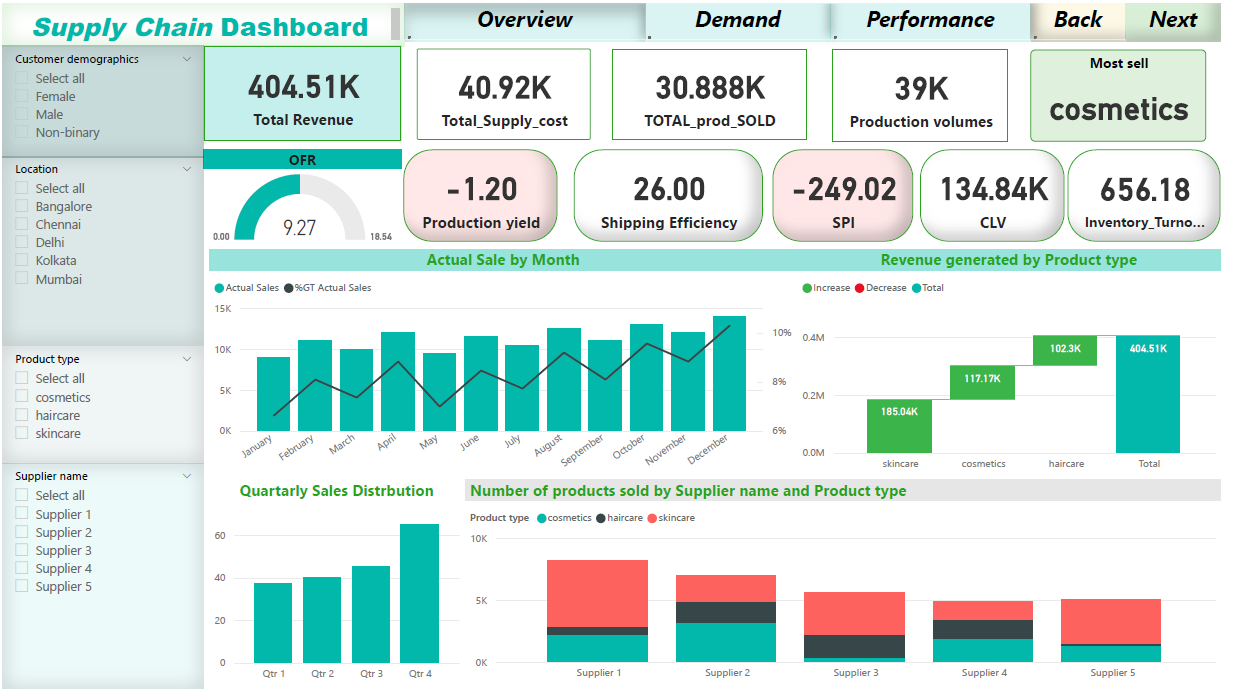

What the dashboard file says about the page in this screenshot:
{"tool":"powerbi","page":{"name":"Overview","canvas":[1280,720],"ordinal":0},"visuals":[{"type":"textbox","box":[0,0,421.7,45],"z":0},{"type":"card","fields":{"Values":["processed_data.Total Revenue"]},"box":[211.4,44.3,207.1,100],"z":1000},{"type":"card","fields":{"Values":["Measure.SPI"]},"box":[808.6,152.9,148.6,97.1],"z":2000},{"type":"card","fields":{"Values":["Sum(processed_data.Production volumes)"]},"box":[871.7,46.7,185,98.3],"z":3000},{"type":"card","fields":{"Values":["Measure.TOTAL SOLD"]},"box":[640,46.7,205,96.7],"z":4000},{"type":"card","title":"Most sell","fields":{"Values":["Min(processed_data.Product type)"]},"box":[1080,48.3,185,96.7],"z":5000},{"type":"gauge","fields":{"Y":["Measure.OFR"]},"box":[211.4,152.9,207.1,105.7],"z":6000},{"type":"card","fields":{"Values":["Measure.Inventory_Turnover"]},"box":[1118.6,152.9,161.4,97.1],"z":7000},{"type":"clusteredColumnChart","title":"Quartarly Sales Distrbution","fields":{"Category":["Demand.Date.Variation.Date Hierarchy.Quarter"],"Y":["Sum(Demand.Customer Demand Var)"]},"box":[216.7,500,268.3,220],"z":8000},{"type":"lineStackedColumnComboChart","title":"Actual Sale by Month","fields":{"Y":["Sum(Demand.Actual Sales)"],"Category":["Demand.Date.Variation.Date Hierarchy.Month","Demand.Date.Variation.Date Hierarchy.Day"],"Y2":["Divide(Sum(Demand.Actual Sales), ScopedEval(Sum(Demand.Actual Sales), []))"]},"box":[216.7,258.3,618.3,241.7],"z":9000},{"type":"waterfallChart","fields":{"Category":["processed_data.Product type"],"Y":["Sum(processed_data.Revenue generated)"]},"box":[835,258.3,445,241.7],"z":10000},{"type":"card","fields":{"Values":["Measure.CLV"]},"box":[964.3,152.9,151.4,97.1],"z":11000},{"type":"actionButton","title":"Next","box":[1180,0,100,40],"z":12000},{"type":"actionButton","title":"Back","box":[1080,0,100,40],"z":13000},{"type":"card","fields":{"Values":["Measure.Shipping Efficiency"]},"box":[600,152.9,198.6,97.1],"z":14000},{"type":"card","fields":{"Values":["Measure.Production yield"]},"box":[421.4,152.9,161.4,97.1],"z":15000},{"type":"card","fields":{"Values":["Measure.Total_Supply_cost"]},"box":[435,46.7,183.3,96.7],"z":16000},{"type":"slicer","fields":{"Values":["processed_data.Customer demographics"]},"box":[0,44.3,211.4,117.1],"z":17000},{"type":"slicer","fields":{"Values":["processed_data.Location"]},"box":[0,160,211.4,198.6],"z":18000},{"type":"slicer","fields":{"Values":["processed_data.Product type"]},"box":[0,360,211.4,122.9],"z":19000},{"type":"slicer","fields":{"Values":["processed_data.Supplier name"]},"box":[0,482.9,211.4,237.1],"z":20000},{"type":"columnChart","fields":{"Category":["processed_data.Supplier name"],"Series":["processed_data.Product type"],"Y":["Sum(processed_data.Number of products sold)"]},"box":[485.7,500,794.3,220],"z":21000},{"type":"actionButton","title":"Demand","box":[675,0,195,40],"z":22000},{"type":"actionButton","title":"Performance","box":[870,0,210,40],"z":23000},{"type":"actionButton","title":"Overview","box":[421.7,0,253.3,40],"z":25000}]}

Visuals, with their boxes in screenshot pixels (x1, y1, x2, y2), scaled from the page's 1280x720 canvas onto the 1242x695 screenshot:
textbox: box=[0, 0, 409, 43]
card - processed_data.Total Revenue: box=[205, 43, 406, 139]
card - Measure.SPI: box=[785, 148, 929, 241]
card - Sum(processed_data.Production volumes): box=[846, 45, 1025, 140]
card - Measure.TOTAL SOLD: box=[621, 45, 820, 138]
"Most sell" card: box=[1048, 47, 1227, 140]
gauge - Measure.OFR: box=[205, 148, 406, 250]
card - Measure.Inventory_Turnover: box=[1085, 148, 1241, 241]
"Quartarly Sales Distrbution" clusteredColumnChart: box=[210, 483, 471, 694]
"Actual Sale by Month" lineStackedColumnComboChart: box=[210, 249, 810, 483]
waterfallChart - processed_data.Product type x Sum(processed_data.Revenue generated): box=[810, 249, 1241, 483]
card - Measure.CLV: box=[936, 148, 1083, 241]
"Next" actionButton: box=[1145, 0, 1241, 39]
"Back" actionButton: box=[1048, 0, 1145, 39]
card - Measure.Shipping Efficiency: box=[582, 148, 775, 241]
card - Measure.Production yield: box=[409, 148, 565, 241]
card - Measure.Total_Supply_cost: box=[422, 45, 600, 138]
slicer - processed_data.Customer demographics: box=[0, 43, 205, 156]
slicer - processed_data.Location: box=[0, 154, 205, 346]
slicer - processed_data.Product type: box=[0, 348, 205, 466]
slicer - processed_data.Supplier name: box=[0, 466, 205, 694]
columnChart - processed_data.Supplier name x processed_data.Product type: box=[471, 483, 1241, 694]
"Demand" actionButton: box=[655, 0, 844, 39]
"Performance" actionButton: box=[844, 0, 1048, 39]
"Overview" actionButton: box=[409, 0, 655, 39]
